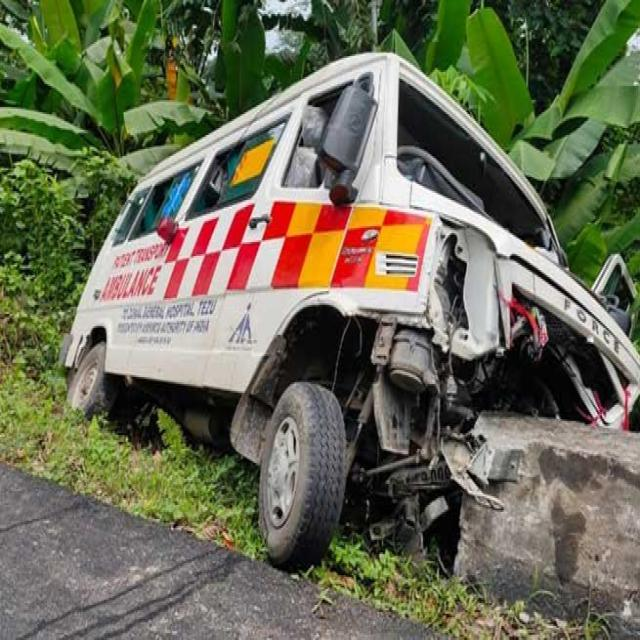accident: (62, 54, 640, 568)
